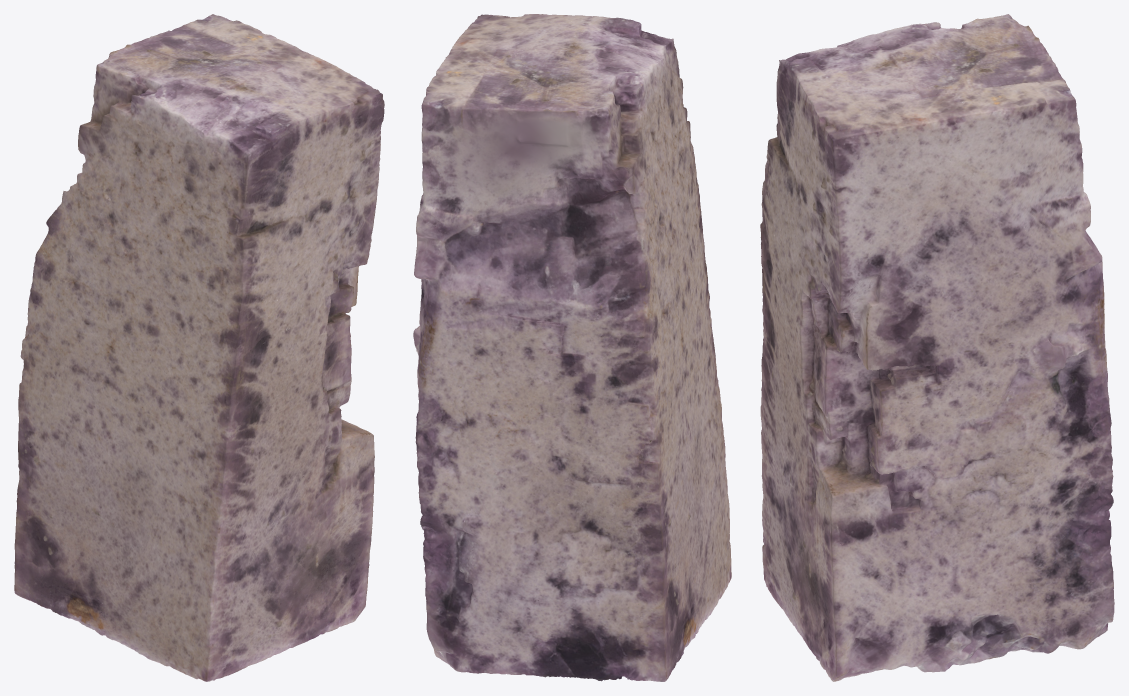
The model's file is fluorite3.glb.
3 views of the same model, side by side, from view 1: azimuth 30°, elevation 25°; view 2: azimuth 150°, elevation 25°; view 3: azimuth 270°, elevation 25° (orthographic). The views are drawn at different scales.
Visible parts, largest first — view 1: Object_3; view 2: Object_3; view 3: Object_3.
Part boxes in pixels (x1,y1,x2,y2): Object_3: [14, 14, 384, 681]; Object_3: [413, 14, 731, 681]; Object_3: [760, 14, 1114, 681].
Size of the model in its own units: 2.14 by 4.02 by 2.24.
Materials: 1 (1 with a texture image).
